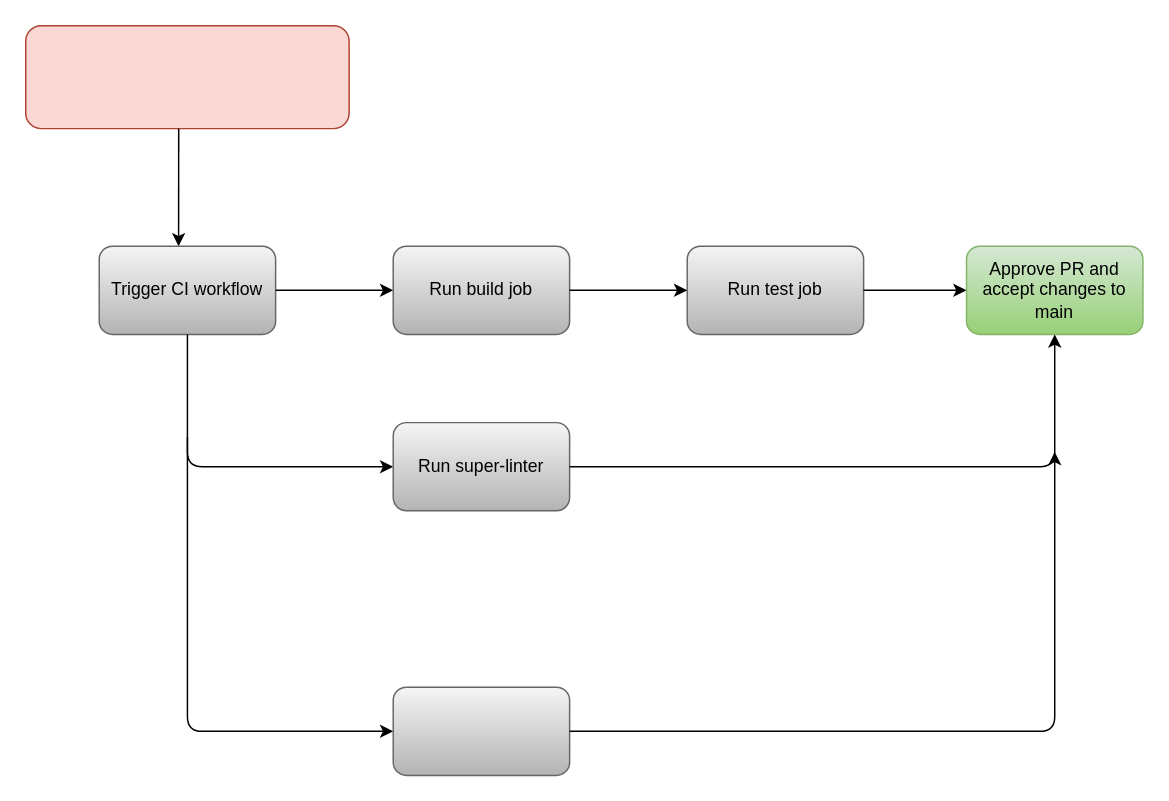
This 1169x801 diagram has some shape labels left out. Each missing label, with the centre of its shape:
"On pull request: main On push: main, ci-pipeline" belongs at (186,76).
"Run documentation" belongs at (481,730).
